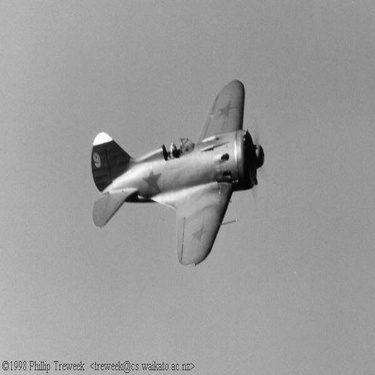airplane: (57, 72, 281, 275)
